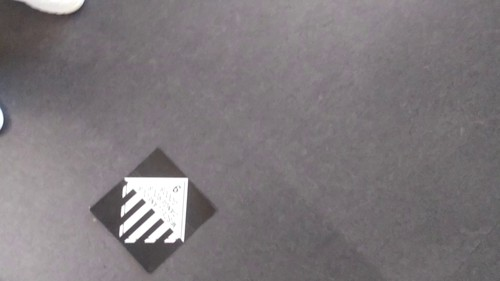misgoods: (116, 170, 195, 249)
